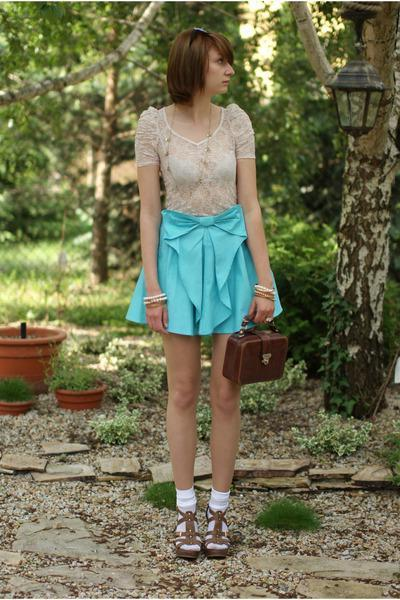short sleeve shirt: (132, 101, 259, 223)
skirt: (122, 210, 284, 339)
